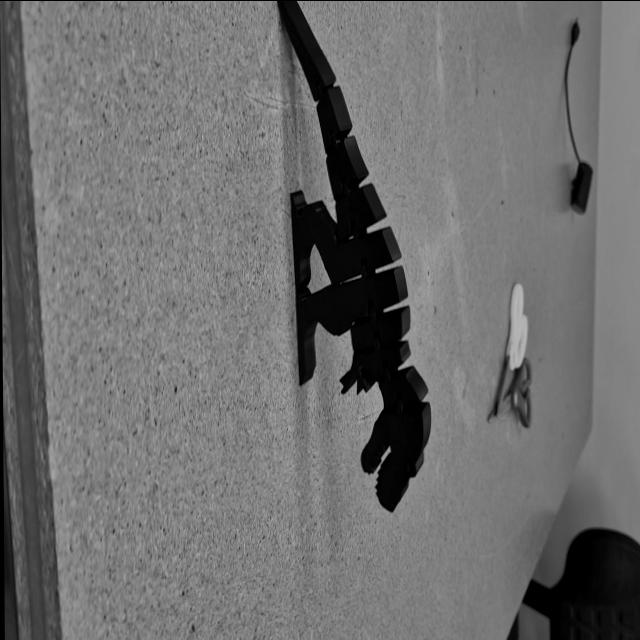dino: (276, 1, 433, 514)
